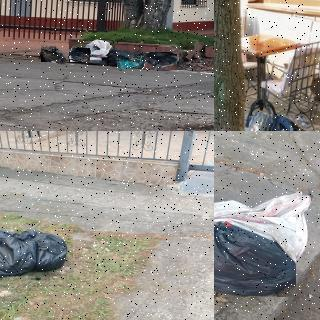Garbage: (214, 216, 296, 297), (0, 229, 73, 279), (246, 113, 305, 131), (40, 43, 70, 64), (143, 52, 177, 70), (83, 39, 115, 57), (108, 49, 140, 66), (117, 55, 144, 71), (70, 48, 91, 64)
